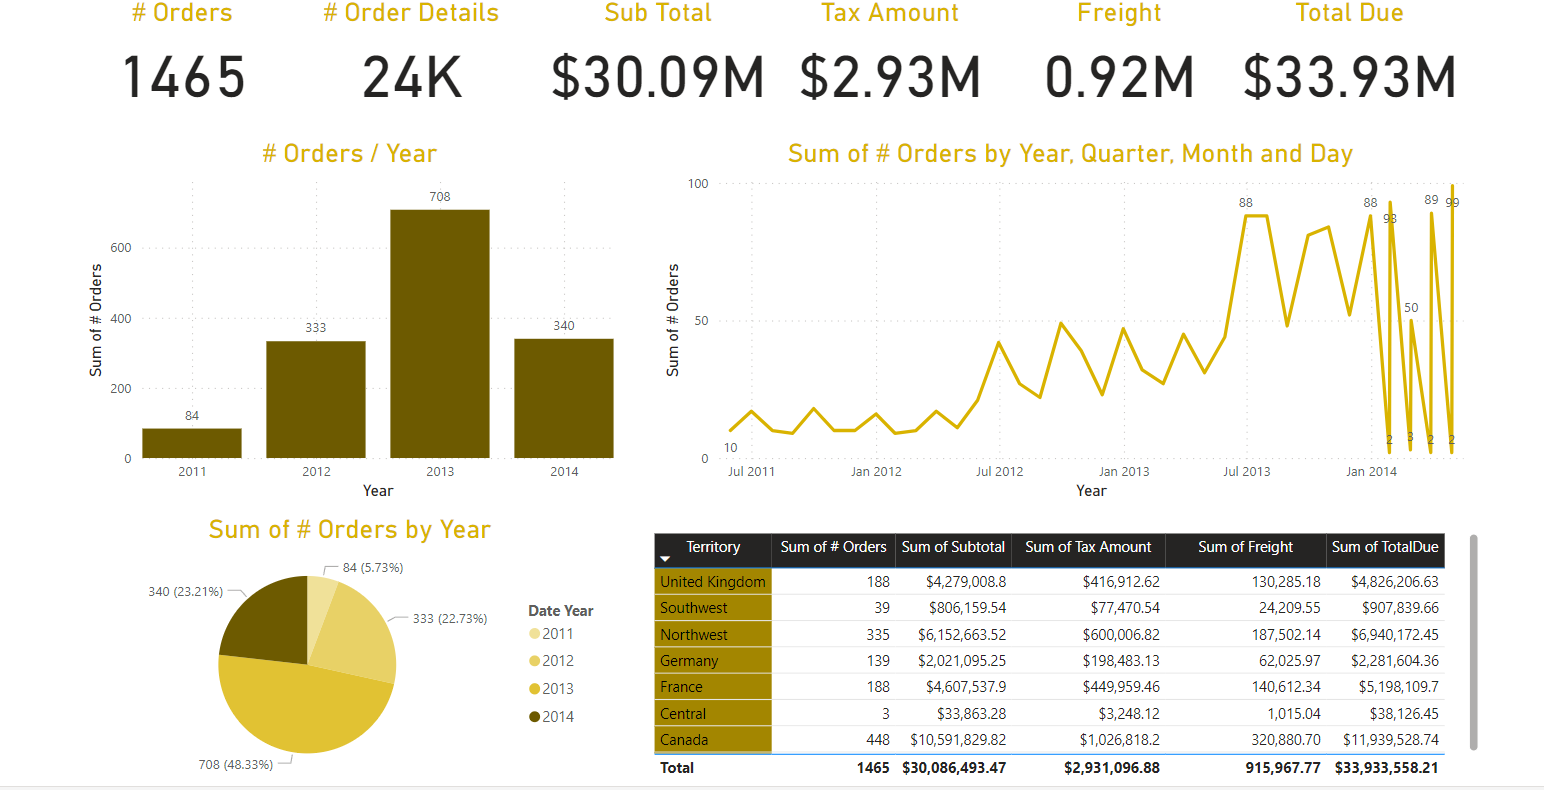

Layout of this report page (visuals, bound fields, positions):
{"tool":"powerbi","page":{"name":"Page 1","canvas":[1280,720],"ordinal":0},"visuals":[{"type":"card","title":"# Orders","fields":{"Values":["Sum(Sales - Excel File.# Orders)"]},"box":[0,0,185.4,103.4],"z":0},{"type":"card","title":"# Order Details","fields":{"Values":["Sum(Sales - Excel File.# Order Details)"]},"box":[181.6,0,240.1,103.4],"z":1000},{"type":"card","title":"Sub Total","fields":{"Values":["Sum(Sales - Excel File.Subtotal)"]},"box":[417.9,0,217.5,103.4],"z":2000},{"type":"card","title":"Tax Amount","fields":{"Values":["Sum(Sales - Excel File.Tax Amount)"]},"box":[631.6,0,213.9,103.4],"z":3000},{"type":"card","title":"Total Due","fields":{"Values":["Sum(Sales - Excel File.TotalDue)"]},"box":[1050.6,0,215.1,103.4],"z":4000},{"type":"card","title":"Freight","fields":{"Values":["Sum(Sales - Excel File.Freight)"]},"box":[841.7,0,212.7,103.4],"z":5000},{"type":"clusteredColumnChart","title":"# Orders / Year","fields":{"Y":["Sum(Sales - Excel File.# Orders)"],"Category":["Sales - Excel File.Date.Variation.Date Hierarchy.Year"]},"box":[0,128.4,490.8,335.2],"z":6000},{"type":"pieChart","fields":{"Category":["Sales - Excel File.Date.Variation.Date Hierarchy.Year"],"Y":["Sum(Sales - Excel File.# Orders)"]},"box":[0,471.8,490.8,248.4],"z":7000},{"type":"tableEx","fields":{"Values":["Sales - Excel File.Name","Sum(Sales - Excel File.# Orders)","Sum(Sales - Excel File.Subtotal)","Sum(Sales - Excel File.Tax Amount)","Sum(Sales - Excel File.Freight)","Sum(Sales - Excel File.TotalDue)"]},"box":[517,484.9,763,235.3],"z":8000},{"type":"lineChart","fields":{"Y":["Sum(Sales - Excel File.# Orders)"],"Category":["Sales - Excel File.Date.Variation.Date Hierarchy.Year","Sales - Excel File.Date.Variation.Date Hierarchy.Quarter","Sales - Excel File.Date.Variation.Date Hierarchy.Month","Sales - Excel File.Date.Variation.Date Hierarchy.Day"]},"box":[526.5,128.4,753.5,335.2],"z":9000}]}

Visuals, with their boxes on the page's 1280x720 design canvas (x1, y1, x2, y2). These are canvas units, not pixel positions in the 1544x790 screenshot, which may show the page scaled, cropped or inside an application window:
"# Orders" card: (0,0,185,103)
"# Order Details" card: (182,0,422,103)
"Sub Total" card: (418,0,635,103)
"Tax Amount" card: (632,0,846,103)
"Total Due" card: (1051,0,1266,103)
"Freight" card: (842,0,1054,103)
"# Orders / Year" clusteredColumnChart: (0,128,491,464)
pieChart - Sales - Excel File.Date.Variation.Date Hierarchy.Year x Sum(Sales - Excel File.# Orders): (0,472,491,720)
tableEx - Sales - Excel File.Name x Sum(Sales - Excel File.# Orders): (517,485,1280,720)
lineChart - Sum(Sales - Excel File.# Orders) x Sales - Excel File.Date.Variation.Date Hierarchy.Year: (526,128,1280,464)
